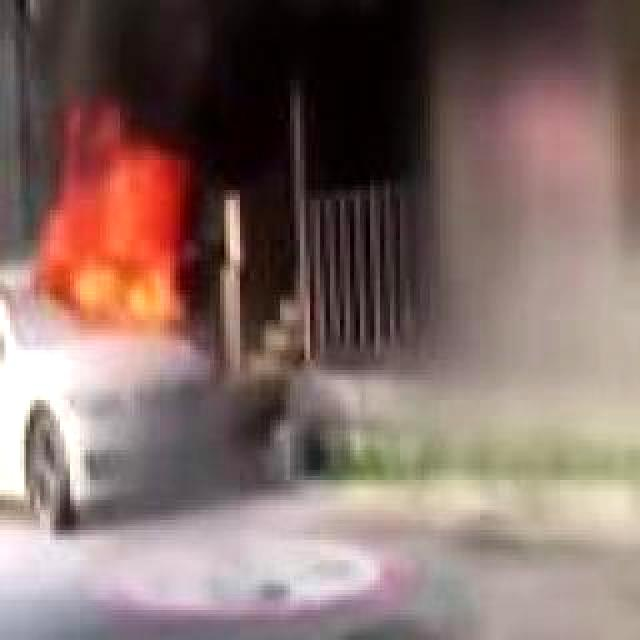fire: (50, 128, 184, 334)
smoke: (8, 0, 424, 120)
